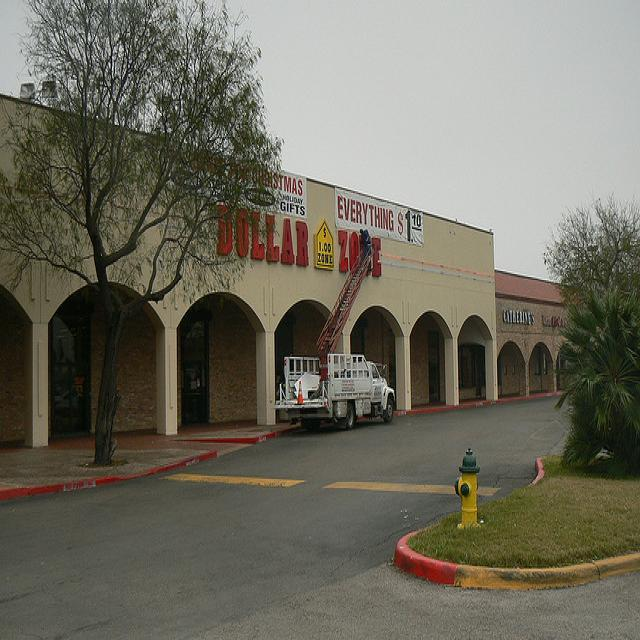fire_hydrant: (453, 444, 480, 529)
